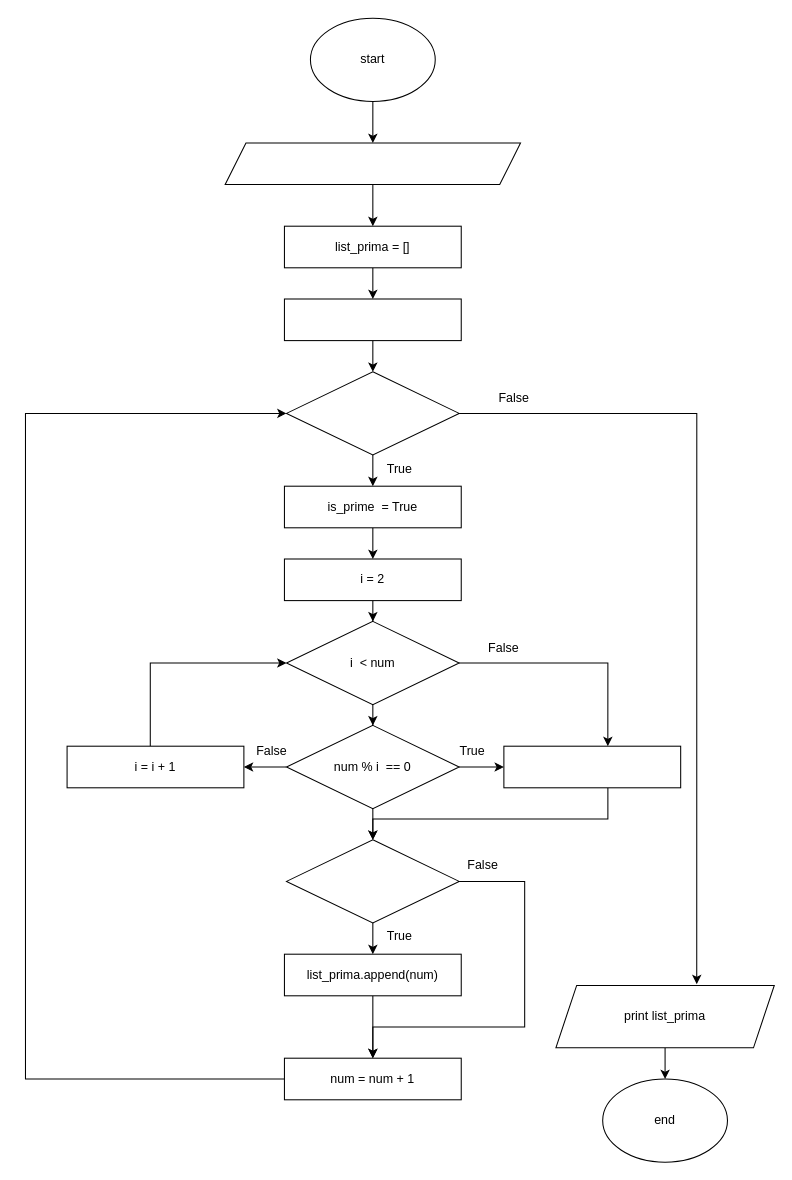
The diagram is 792 pixels wide and 1180 high, and some of its shapes have lost their labels. Here are the shapes that lost their labels. From the top down, the centre of each, then its label:
point 372,163: input N = int(input("Masukkan batas angka: N"))
point 372,319: num = 2
point 372,413: num <= n
point 592,766: is_prime = False
point 372,881: is_prime == True
